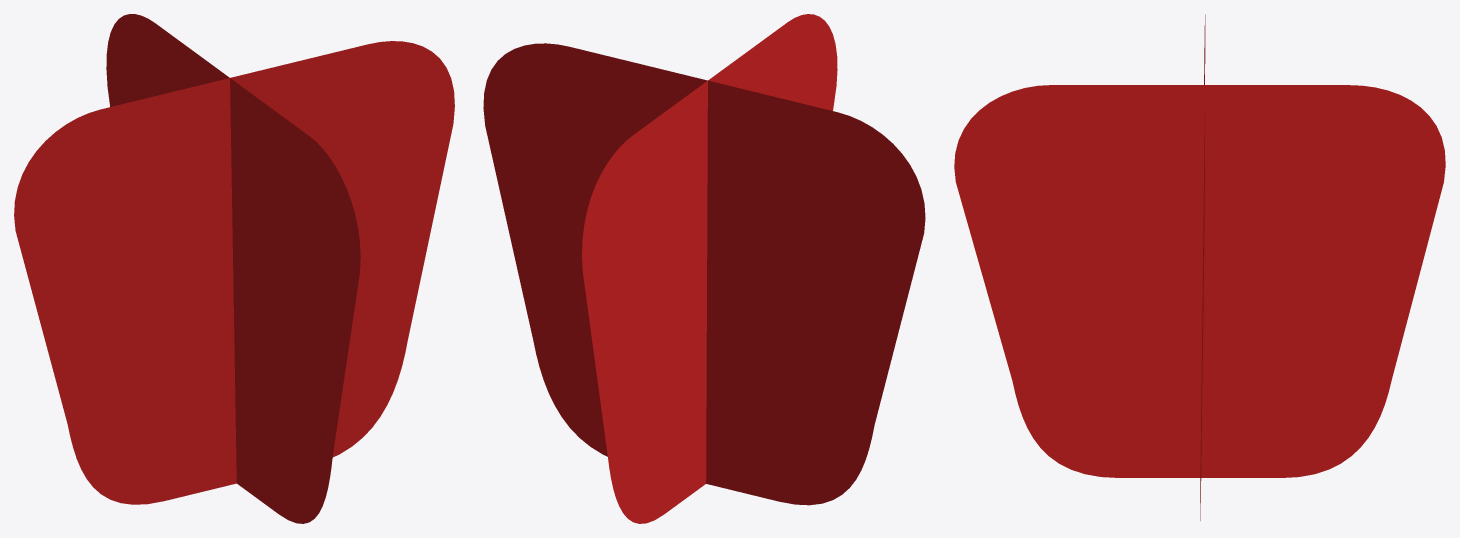
Rendered from emblem.glb.
3 views of the same model, side by side, from view 1: azimuth 30°, elevation 25°; view 2: azimuth 150°, elevation 25°; view 3: azimuth 270°, elevation 25° (orthographic). The views are drawn at different scales.
Parts seen in each view (by area): view 1: Object_1_New material 004_0, Object_2_New material 004_2_0; view 2: Object_1_New material 004_0, Object_2_New material 004_2_0; view 3: Object_2_New material 004_2_0, Object_1_New material 004_0.
Part boxes in pixels (<box>): Object_1_New material 004_0: <box>14,41,454,504</box>; Object_2_New material 004_2_0: <box>106,14,360,523</box>; Object_1_New material 004_0: <box>483,43,925,505</box>; Object_2_New material 004_2_0: <box>582,14,837,523</box>; Object_2_New material 004_2_0: <box>954,85,1445,477</box>; Object_1_New material 004_0: <box>1200,14,1205,520</box>.
Size of the model in its own units: 1.94 by 1.71 by 1.94.
